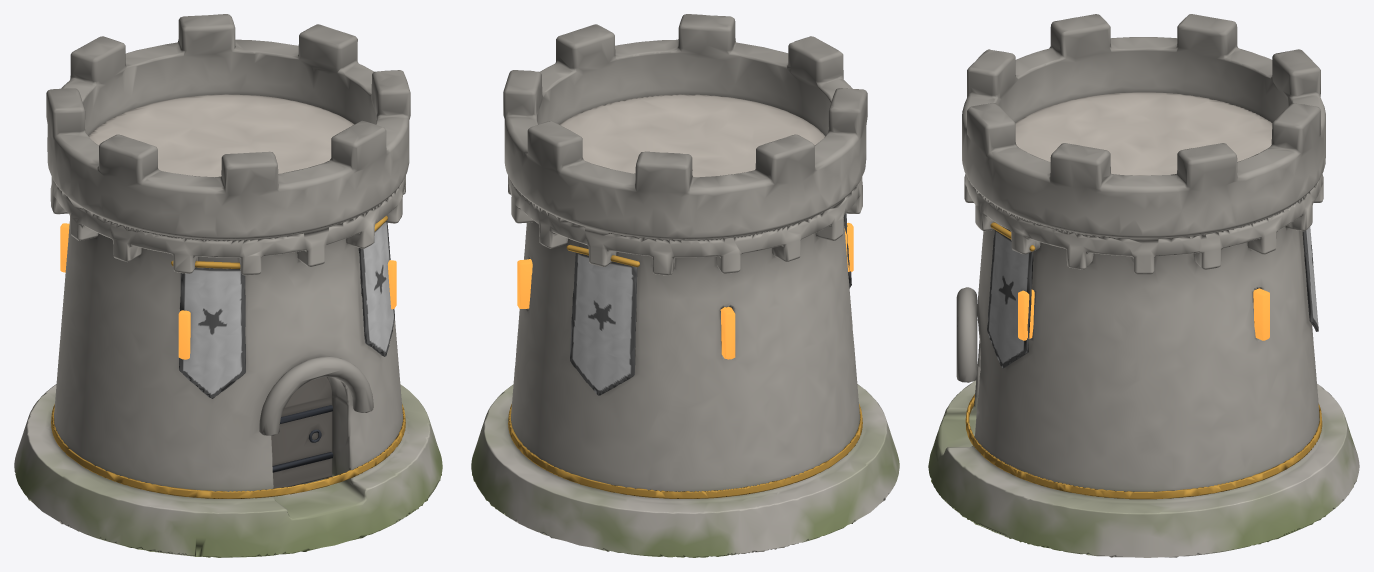
File: tower-princess.glb
3 renders of one model, left to right at view 1: azimuth 30°, elevation 25°; view 2: azimuth 150°, elevation 25°; view 3: azimuth 270°, elevation 25°, orthographic.
Parts seen in each view (by area): view 1: tower-princess_stone, tower-princess_wood, tower-princess_team, tower-princess_metal, tower-princess_glow; view 2: tower-princess_stone, tower-princess_wood, tower-princess_team, tower-princess_metal, tower-princess_glow; view 3: tower-princess_stone, tower-princess_wood, tower-princess_team, tower-princess_metal, tower-princess_glow.
Part boxes in pixels (x1,y1,x2,y2): tower-princess_stone: (14, 14, 442, 557); tower-princess_wood: (88, 94, 354, 488); tower-princess_team: (179, 222, 394, 398); tower-princess_metal: (51, 215, 405, 498); tower-princess_glow: (60, 223, 396, 359); tower-princess_stone: (471, 14, 899, 557); tower-princess_wood: (559, 94, 825, 177); tower-princess_team: (570, 214, 851, 395); tower-princess_metal: (508, 244, 862, 498); tower-princess_glow: (517, 222, 853, 359); tower-princess_stone: (928, 14, 1359, 557); tower-princess_wood: (1015, 92, 1272, 175); tower-princess_team: (987, 226, 1318, 368); tower-princess_metal: (965, 222, 1322, 499); tower-princess_glow: (1018, 288, 1269, 340).
Bounding box in the file's own units: 3.32 × 3.23 × 3.32.
